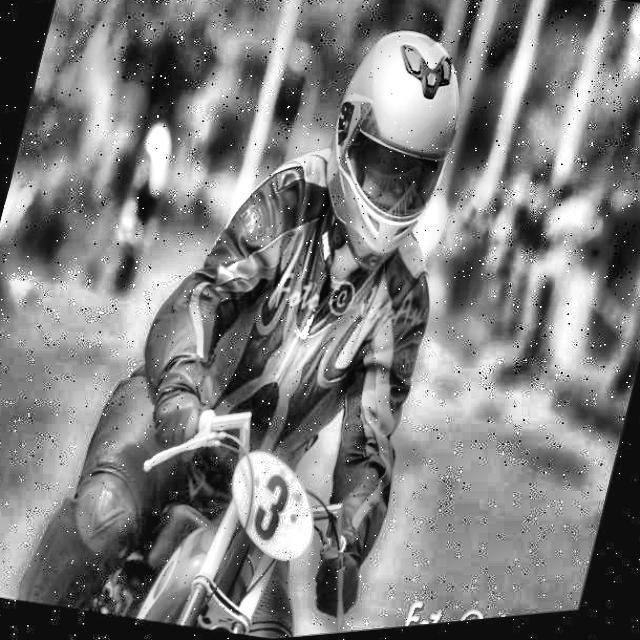Helmet: (297, 13, 483, 303)
